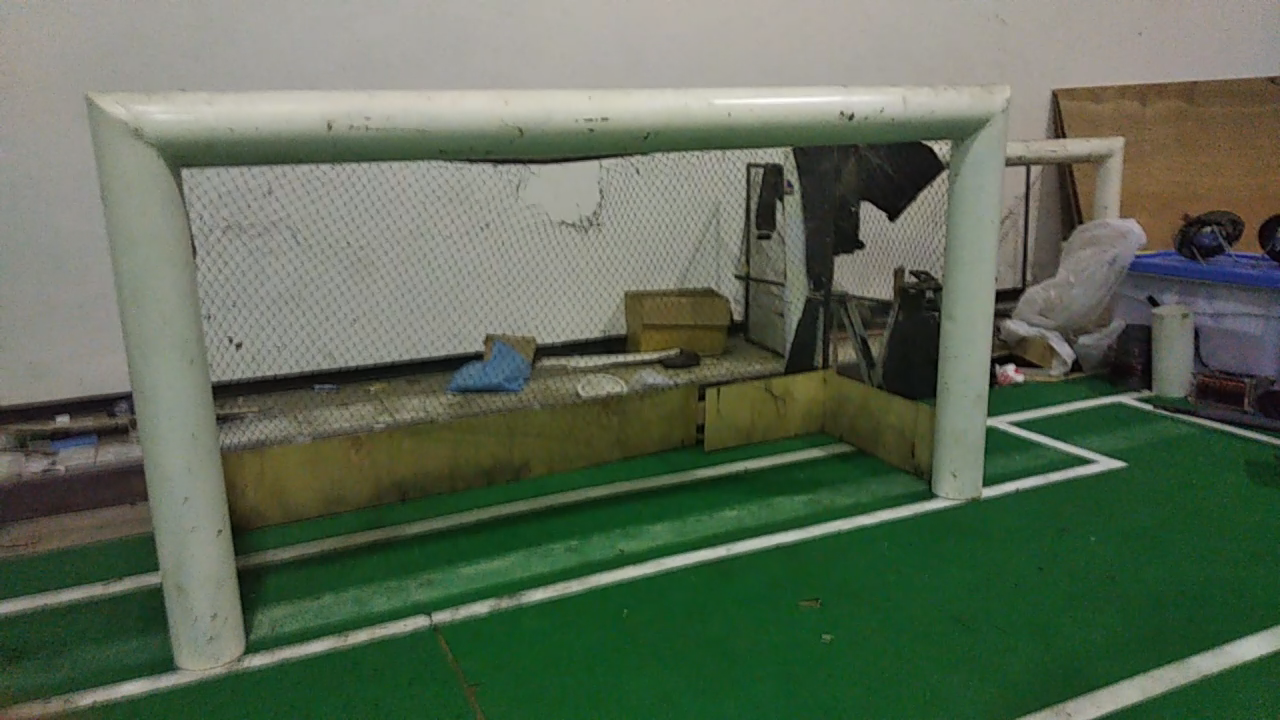gawang: (68, 71, 1030, 683)
